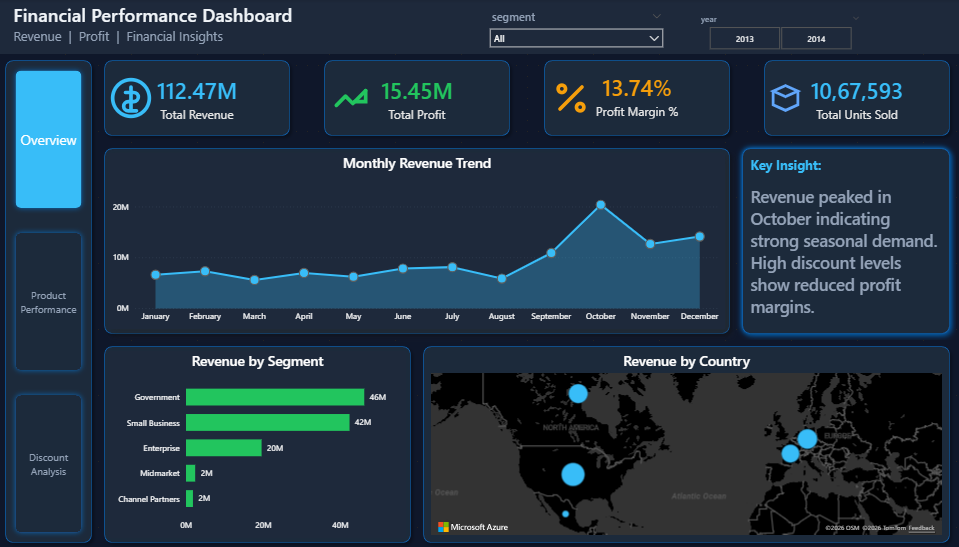

The page's visual inventory and layout, read from the dashboard file:
{"tool":"powerbi","page":{"name":"Overview","canvas":[1400,800],"ordinal":0},"visuals":[{"type":"shape","box":[0,80,144,720],"z":0},{"type":"shape","box":[608,496,784,304],"z":1000},{"type":"shape","box":[144,496,464,304],"z":2000},{"type":"shape","box":[144,208,928,288],"z":3000},{"type":"shape","box":[-8,0,1408,80],"z":4000},{"type":"textbox","box":[16,0,448,71],"z":5000},{"type":"shape","box":[144,80,288,128],"z":6000},{"type":"shape","box":[1104,80,288,128],"z":7000},{"type":"shape","box":[784,80,288,128],"z":8000},{"type":"shape","box":[464,80,288,128],"z":9000},{"type":"cardVisual","fields":{"Data":["financial_dashboard_view.Total Revenue"]},"box":[160,96,256,96],"z":10000},{"type":"cardVisual","fields":{"Data":["financial_dashboard_view.Total Profit"]},"box":[480,96,256,96],"z":11000},{"type":"cardVisual","fields":{"Data":["financial_dashboard_view.Profit Margin %"]},"box":[800,96,256,96],"z":12000},{"type":"cardVisual","fields":{"Data":["financial_dashboard_view.Total Units Sold"]},"box":[1120,96,256,96],"z":13000},{"type":"lineChart","title":"Monthly Revenue Trend","fields":{"Category":["financial_dashboard_view.month_name"],"Y":["financial_dashboard_view.Total Revenue"]},"box":[160,224,896,256],"z":14000},{"type":"clusteredBarChart","title":"Revenue by Segment","fields":{"Category":["financial_dashboard_view.segment"],"Y":["financial_dashboard_view.Total Revenue"]},"box":[160,512,432,272],"z":15000},{"type":"slicer","fields":{"Values":["financial_dashboard_view.year"]},"box":[1008,16,256,64],"z":16000},{"type":"azureMap","title":"Revenue by Country","fields":{"Category":["financial_dashboard_view.country"],"Size":["financial_dashboard_view.Total Revenue"]},"box":[624,512,752,272],"z":17000},{"type":"pageNavigator","box":[16,96,112,688],"z":18000},{"type":"slicer","fields":{"Values":["financial_dashboard_view.segment"]},"box":[704,10,272,66],"z":19000},{"type":"shape","box":[1072,208,320,288],"z":20000},{"type":"textbox","box":[1088,224,288,256],"z":21000},{"type":"image","box":[160,112,64,64],"z":22000},{"type":"image","box":[480,112,64,64],"z":23000},{"type":"image","box":[800,112,64,64],"z":24000},{"type":"image","box":[1120,96,48,96],"z":25000}]}

Visuals, with their boxes in screenshot pixels (x1, y1, x2, y2), scaled from the page's 1400x800 canvas onto the 959x547 screenshot:
shape: {"x1": 0, "y1": 55, "x2": 99, "y2": 546}
shape: {"x1": 416, "y1": 339, "x2": 954, "y2": 546}
shape: {"x1": 99, "y1": 339, "x2": 416, "y2": 546}
shape: {"x1": 99, "y1": 142, "x2": 734, "y2": 339}
shape: {"x1": 0, "y1": 0, "x2": 958, "y2": 55}
textbox: {"x1": 11, "y1": 0, "x2": 318, "y2": 49}
shape: {"x1": 99, "y1": 55, "x2": 296, "y2": 142}
shape: {"x1": 756, "y1": 55, "x2": 954, "y2": 142}
shape: {"x1": 537, "y1": 55, "x2": 734, "y2": 142}
shape: {"x1": 318, "y1": 55, "x2": 515, "y2": 142}
cardVisual - financial_dashboard_view.Total Revenue: {"x1": 110, "y1": 66, "x2": 285, "y2": 131}
cardVisual - financial_dashboard_view.Total Profit: {"x1": 329, "y1": 66, "x2": 504, "y2": 131}
cardVisual - financial_dashboard_view.Profit Margin %: {"x1": 548, "y1": 66, "x2": 723, "y2": 131}
cardVisual - financial_dashboard_view.Total Units Sold: {"x1": 767, "y1": 66, "x2": 943, "y2": 131}
"Monthly Revenue Trend" lineChart: {"x1": 110, "y1": 153, "x2": 723, "y2": 328}
"Revenue by Segment" clusteredBarChart: {"x1": 110, "y1": 350, "x2": 406, "y2": 536}
slicer - financial_dashboard_view.year: {"x1": 690, "y1": 11, "x2": 866, "y2": 55}
"Revenue by Country" azureMap: {"x1": 427, "y1": 350, "x2": 943, "y2": 536}
pageNavigator: {"x1": 11, "y1": 66, "x2": 88, "y2": 536}
slicer - financial_dashboard_view.segment: {"x1": 482, "y1": 7, "x2": 669, "y2": 52}
shape: {"x1": 734, "y1": 142, "x2": 954, "y2": 339}
textbox: {"x1": 745, "y1": 153, "x2": 943, "y2": 328}
image: {"x1": 110, "y1": 77, "x2": 153, "y2": 120}
image: {"x1": 329, "y1": 77, "x2": 373, "y2": 120}
image: {"x1": 548, "y1": 77, "x2": 592, "y2": 120}
image: {"x1": 767, "y1": 66, "x2": 800, "y2": 131}
